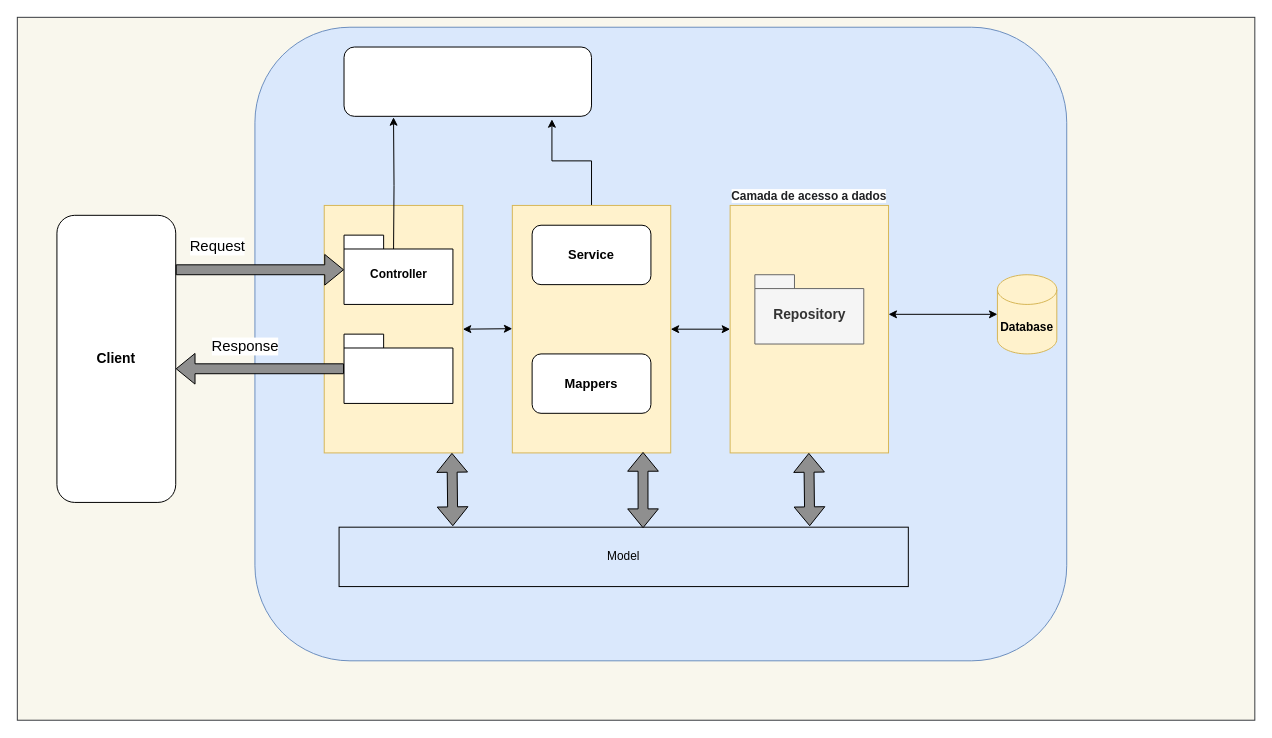
Image size: 1272x738. Some labels were removed from this diagram. The shapes that lost their labels are listed below. From the top down, each one's box as (x1, y1, x2, y2) in pixels, then its label:
(343, 46, 592, 116): DTO
(323, 204, 463, 453): Camada de Apresentação
(511, 204, 671, 453): Camada de Serviço
(343, 333, 453, 403): View
